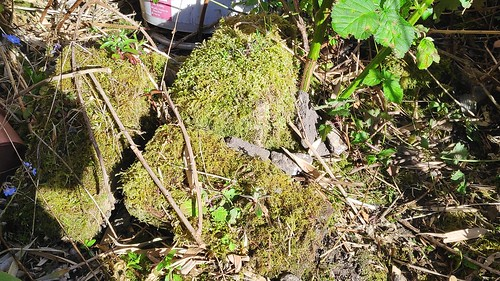vegetation: (1, 1, 496, 277)
